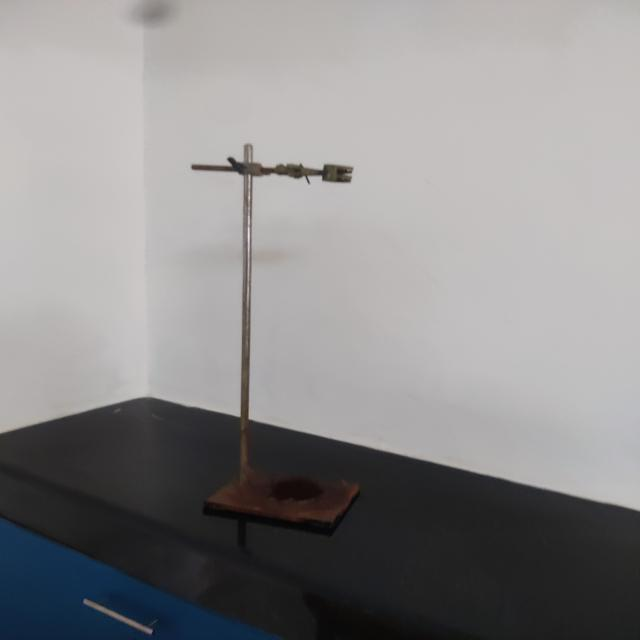Burette_Stands: (187, 135, 424, 547)
